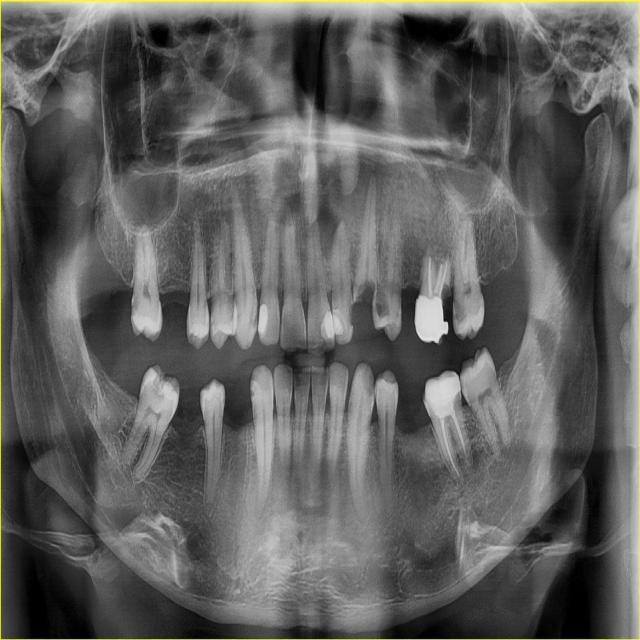74: (438, 418, 460, 479), (449, 408, 469, 460), (432, 262, 444, 295), (437, 258, 447, 297), (427, 256, 433, 298)
NucleOSS Implant: (415, 294, 448, 342)
Sterngold Implant: (368, 287, 391, 325), (353, 275, 377, 304), (451, 294, 465, 332), (151, 373, 167, 402), (249, 294, 259, 334), (439, 281, 453, 308), (130, 290, 141, 321), (369, 372, 375, 405), (346, 301, 353, 327), (249, 383, 256, 407), (373, 381, 381, 401), (460, 374, 467, 396), (220, 392, 226, 410), (210, 317, 215, 332)
Straumann Implant: (319, 307, 335, 349), (431, 397, 460, 420), (331, 309, 345, 338), (258, 304, 269, 339)
Zimmer Implant: (418, 365, 467, 411)
